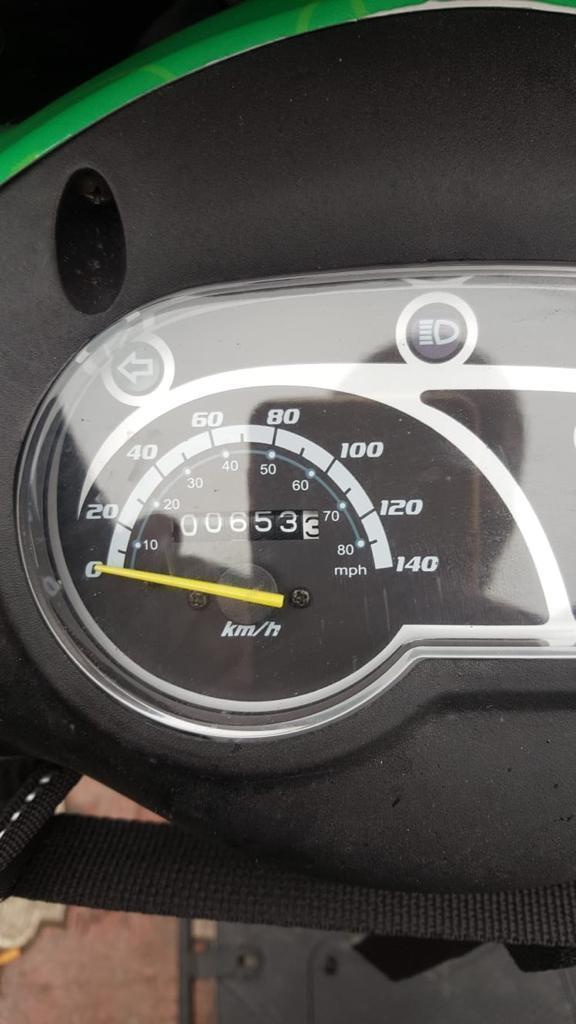0: (178, 511, 197, 537), (204, 511, 222, 534)
3: (278, 510, 298, 533), (303, 515, 321, 537)
5: (253, 510, 273, 533)
6: (228, 511, 248, 532)
odometer: (168, 506, 323, 545)
